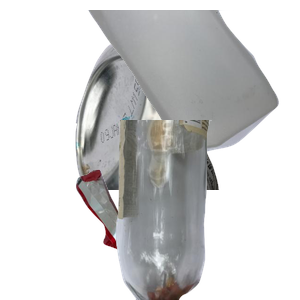glass: (113, 120, 300, 300)
metal: (73, 34, 285, 214)
plastic: (84, 10, 300, 157)
trash: (74, 167, 235, 300)
